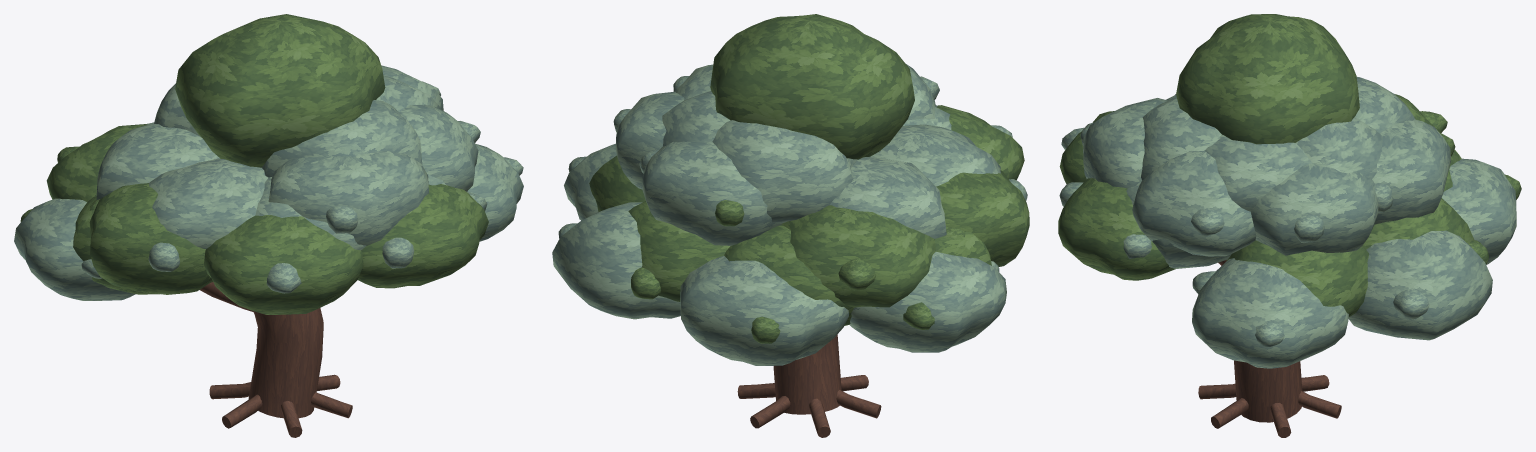
Rendered from tree_3.glb.
The picture shows the model from 3 angles, left to right: view 1: azimuth 30°, elevation 25°; view 2: azimuth 150°, elevation 25°; view 3: azimuth 270°, elevation 25°; orthographic projection.
Parts seen in each view (by area): view 1: tree_3; view 2: tree_3; view 3: tree_3.
Part boxes in pixels (x1,y1,x2,y2): tree_3: [14, 14, 523, 437]; tree_3: [552, 14, 1029, 437]; tree_3: [1058, 14, 1521, 437].
Bounding box in the file's own units: 6.08 × 4.9 × 5.31.
Materials: 1 (1 with a texture image).
